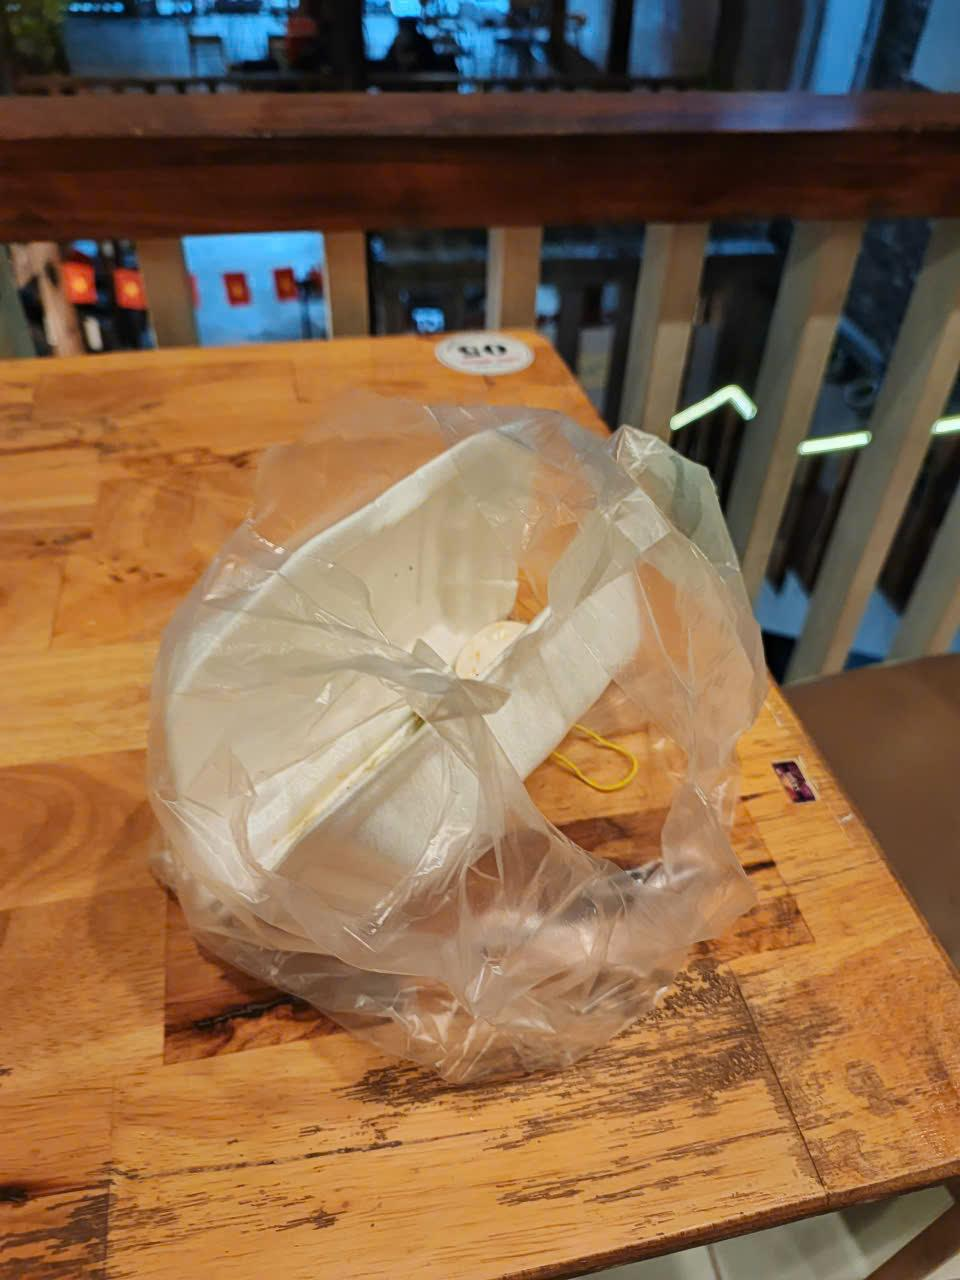Con lai: (150, 420, 714, 1011)
